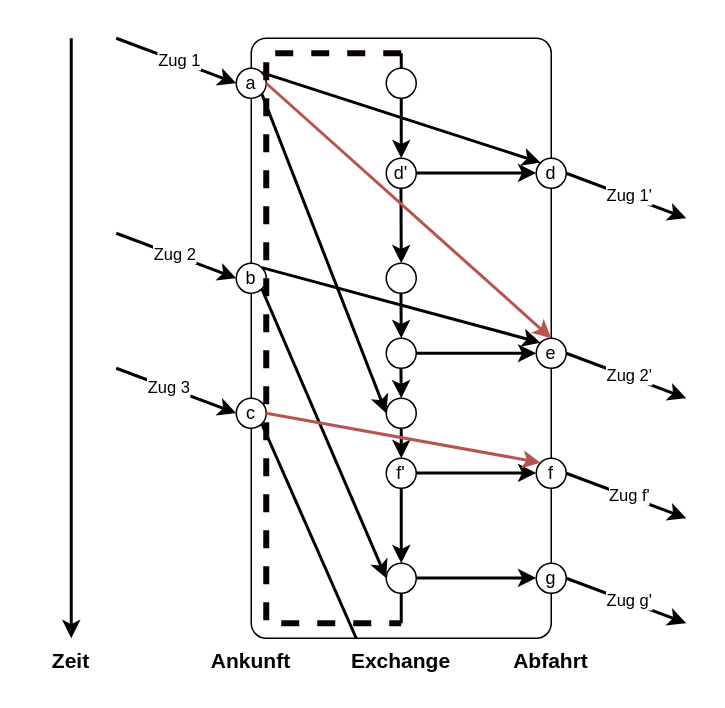
The diagram is 725 pixels wide and 708 high, and some of its shapes have lost their labels. The shapes that lost their labels are listed below. From the top down, each one's centre as x and y in pixels, then its label:
At (400,82): "a'".
At (400,277): "b'".
At (400,352): "e'".
At (400,412): "c'".
At (400,577): "g'".
